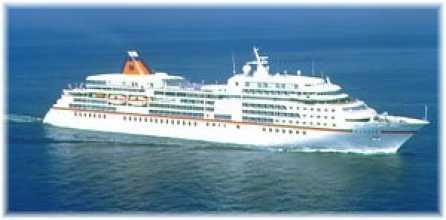youlun: (43, 47, 431, 160)
